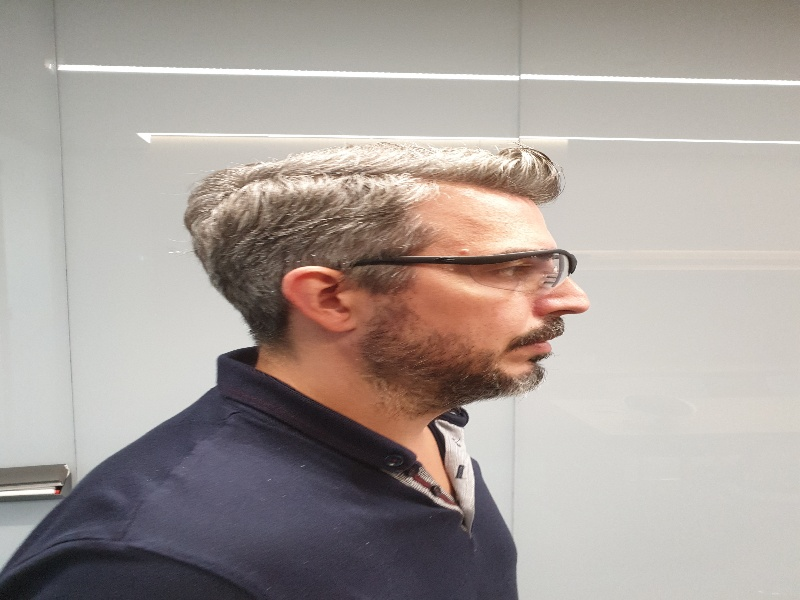Gozluk: (352, 249, 577, 291)
